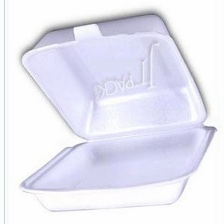foam_box: (13, 11, 220, 217)
